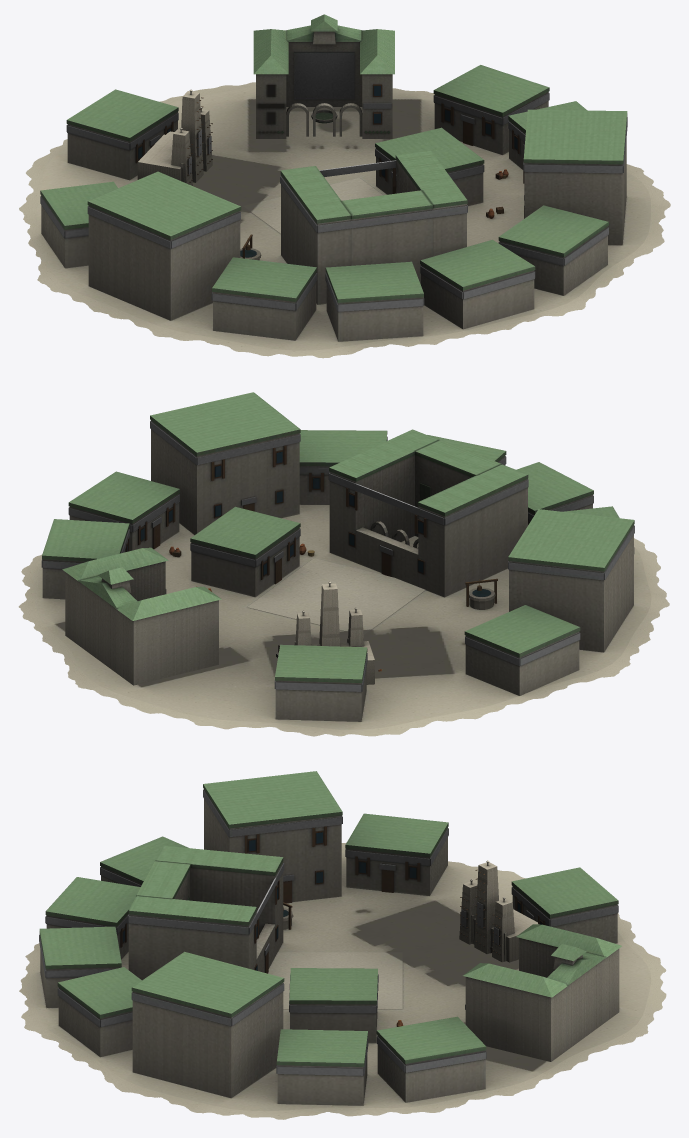
File: gunpowder-town-medium-b-maghreb.glb
The picture shows the model from 3 angles, top to bottom: view 1: azimuth 30°, elevation 25°; view 2: azimuth 150°, elevation 25°; view 3: azimuth 270°, elevation 25°; orthographic projection.
Visible parts, largest first — view 1: LOD0; view 2: LOD0; view 3: LOD0.
Boxes of the visible parts, x1=… form: LOD0: x1=19, y1=14, x2=670, y2=358; LOD0: x1=18, y1=392, x2=669, y2=736; LOD0: x1=19, y1=771, x2=666, y2=1119.
Size of what is drawn, in the model's own units: 5.99 by 0.8965 by 5.91.
Materials: 3 (3 with a texture image).
